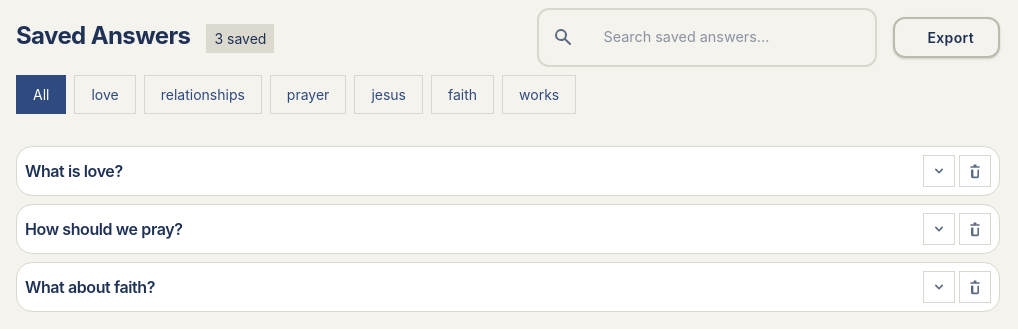
Test case: SavedAnswers.vue › filters answers using the search input
Type "faith" into the search field with class "search-input" at (707, 37), box [537, 8, 877, 67]
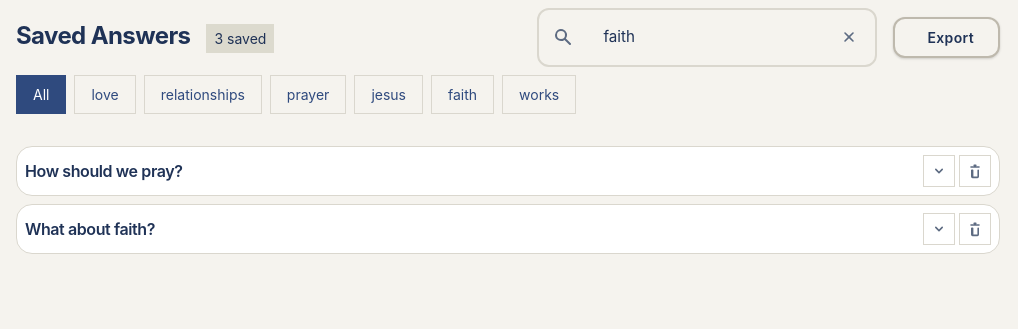
Check: the number of elements with class "answer-card" is 2, box [16, 146, 1000, 196]; [16, 204, 1000, 254]
